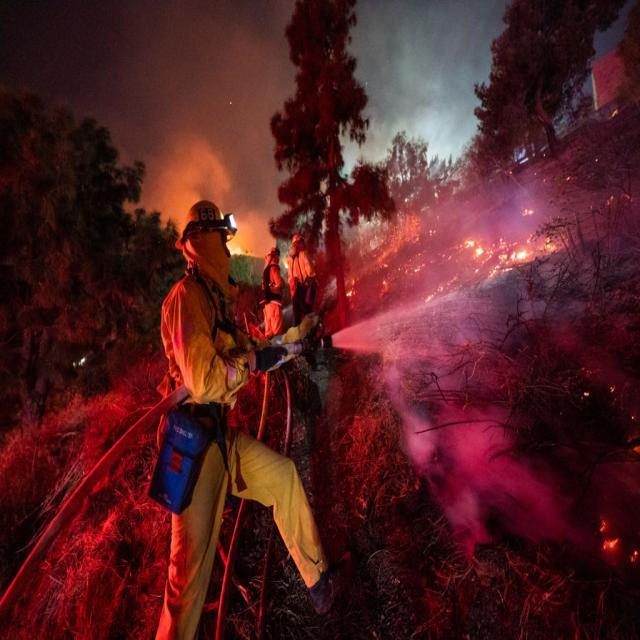Smoke: (125, 125, 275, 262)
